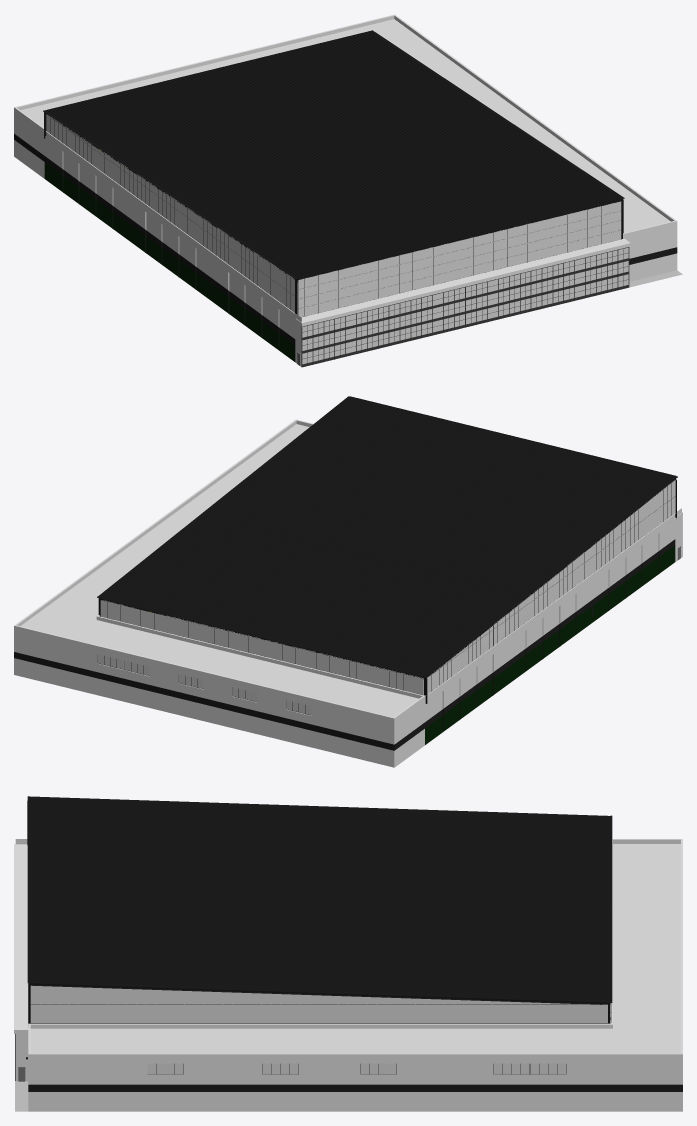
File: MuseumHangerModel.fbx
The picture shows the model from 3 angles, top to bottom: view 1: azimuth 30°, elevation 25°; view 2: azimuth 150°, elevation 25°; view 3: azimuth 270°, elevation 25°; orthographic projection. The views are drawn at different scales.
Visible parts, largest first — view 1: roof002, Wall_left_001, big_win_glass001, office_ceiling002, office_walls001, rb_win_glass002, gate_glass001, gate_glass002, roof_002, gate001, gate002, rb_window002 (+3 smaller); view 2: roof002, office_walls001, office_ceiling002, Wall_left_001, rb_win_glass002, bb_win_glass001, rb_window002, column003, big_steel_frame_2_005, bb_window001; view 3: roof002, office_walls001, office_ceiling002, rb_win_glass001, roof_002, big_steel_frame_1_001, rb_window001.
Boxes of the visible parts, x1=… form: roof002: x1=43, y1=30, x2=624, y2=278; Wall_left_001: x1=44, y1=131, x2=301, y2=366; big_win_glass001: x1=298, y1=201, x2=621, y2=317; office_ceiling002: x1=21, y1=19, x2=670, y2=232; office_walls001: x1=14, y1=14, x2=677, y2=281; rb_win_glass002: x1=46, y1=114, x2=294, y2=312; gate_glass001: x1=302, y1=287, x2=464, y2=364; gate_glass002: x1=466, y1=247, x2=628, y2=324; roof_002: x1=296, y1=238, x2=630, y2=326; gate001: x1=301, y1=287, x2=465, y2=367; gate002: x1=465, y1=247, x2=629, y2=327; rb_window002: x1=46, y1=114, x2=295, y2=312; roof002: x1=97, y1=396, x2=677, y2=677; office_walls001: x1=14, y1=419, x2=425, y2=767; office_ceiling002: x1=20, y1=424, x2=418, y2=717; Wall_left_001: x1=425, y1=508, x2=681, y2=744; rb_win_glass002: x1=427, y1=480, x2=675, y2=693; bb_win_glass001: x1=100, y1=600, x2=423, y2=695; rb_window002: x1=426, y1=479, x2=675, y2=694; column003: x1=442, y1=533, x2=659, y2=731; big_steel_frame_2_005: x1=97, y1=596, x2=427, y2=703; bb_window001: x1=101, y1=600, x2=423, y2=694; roof002: x1=27, y1=796, x2=612, y2=1002; office_walls001: x1=15, y1=839, x2=682, y2=1111; office_ceiling002: x1=30, y1=844, x2=680, y2=1053; rb_win_glass001: x1=30, y1=985, x2=607, y2=1023; roof_002: x1=14, y1=844, x2=28, y2=1033; big_steel_frame_1_001: x1=28, y1=983, x2=610, y2=1023; rb_window001: x1=31, y1=988, x2=607, y2=1023.
Size of the model in its own units: 7094 by 1533 by 9268.
